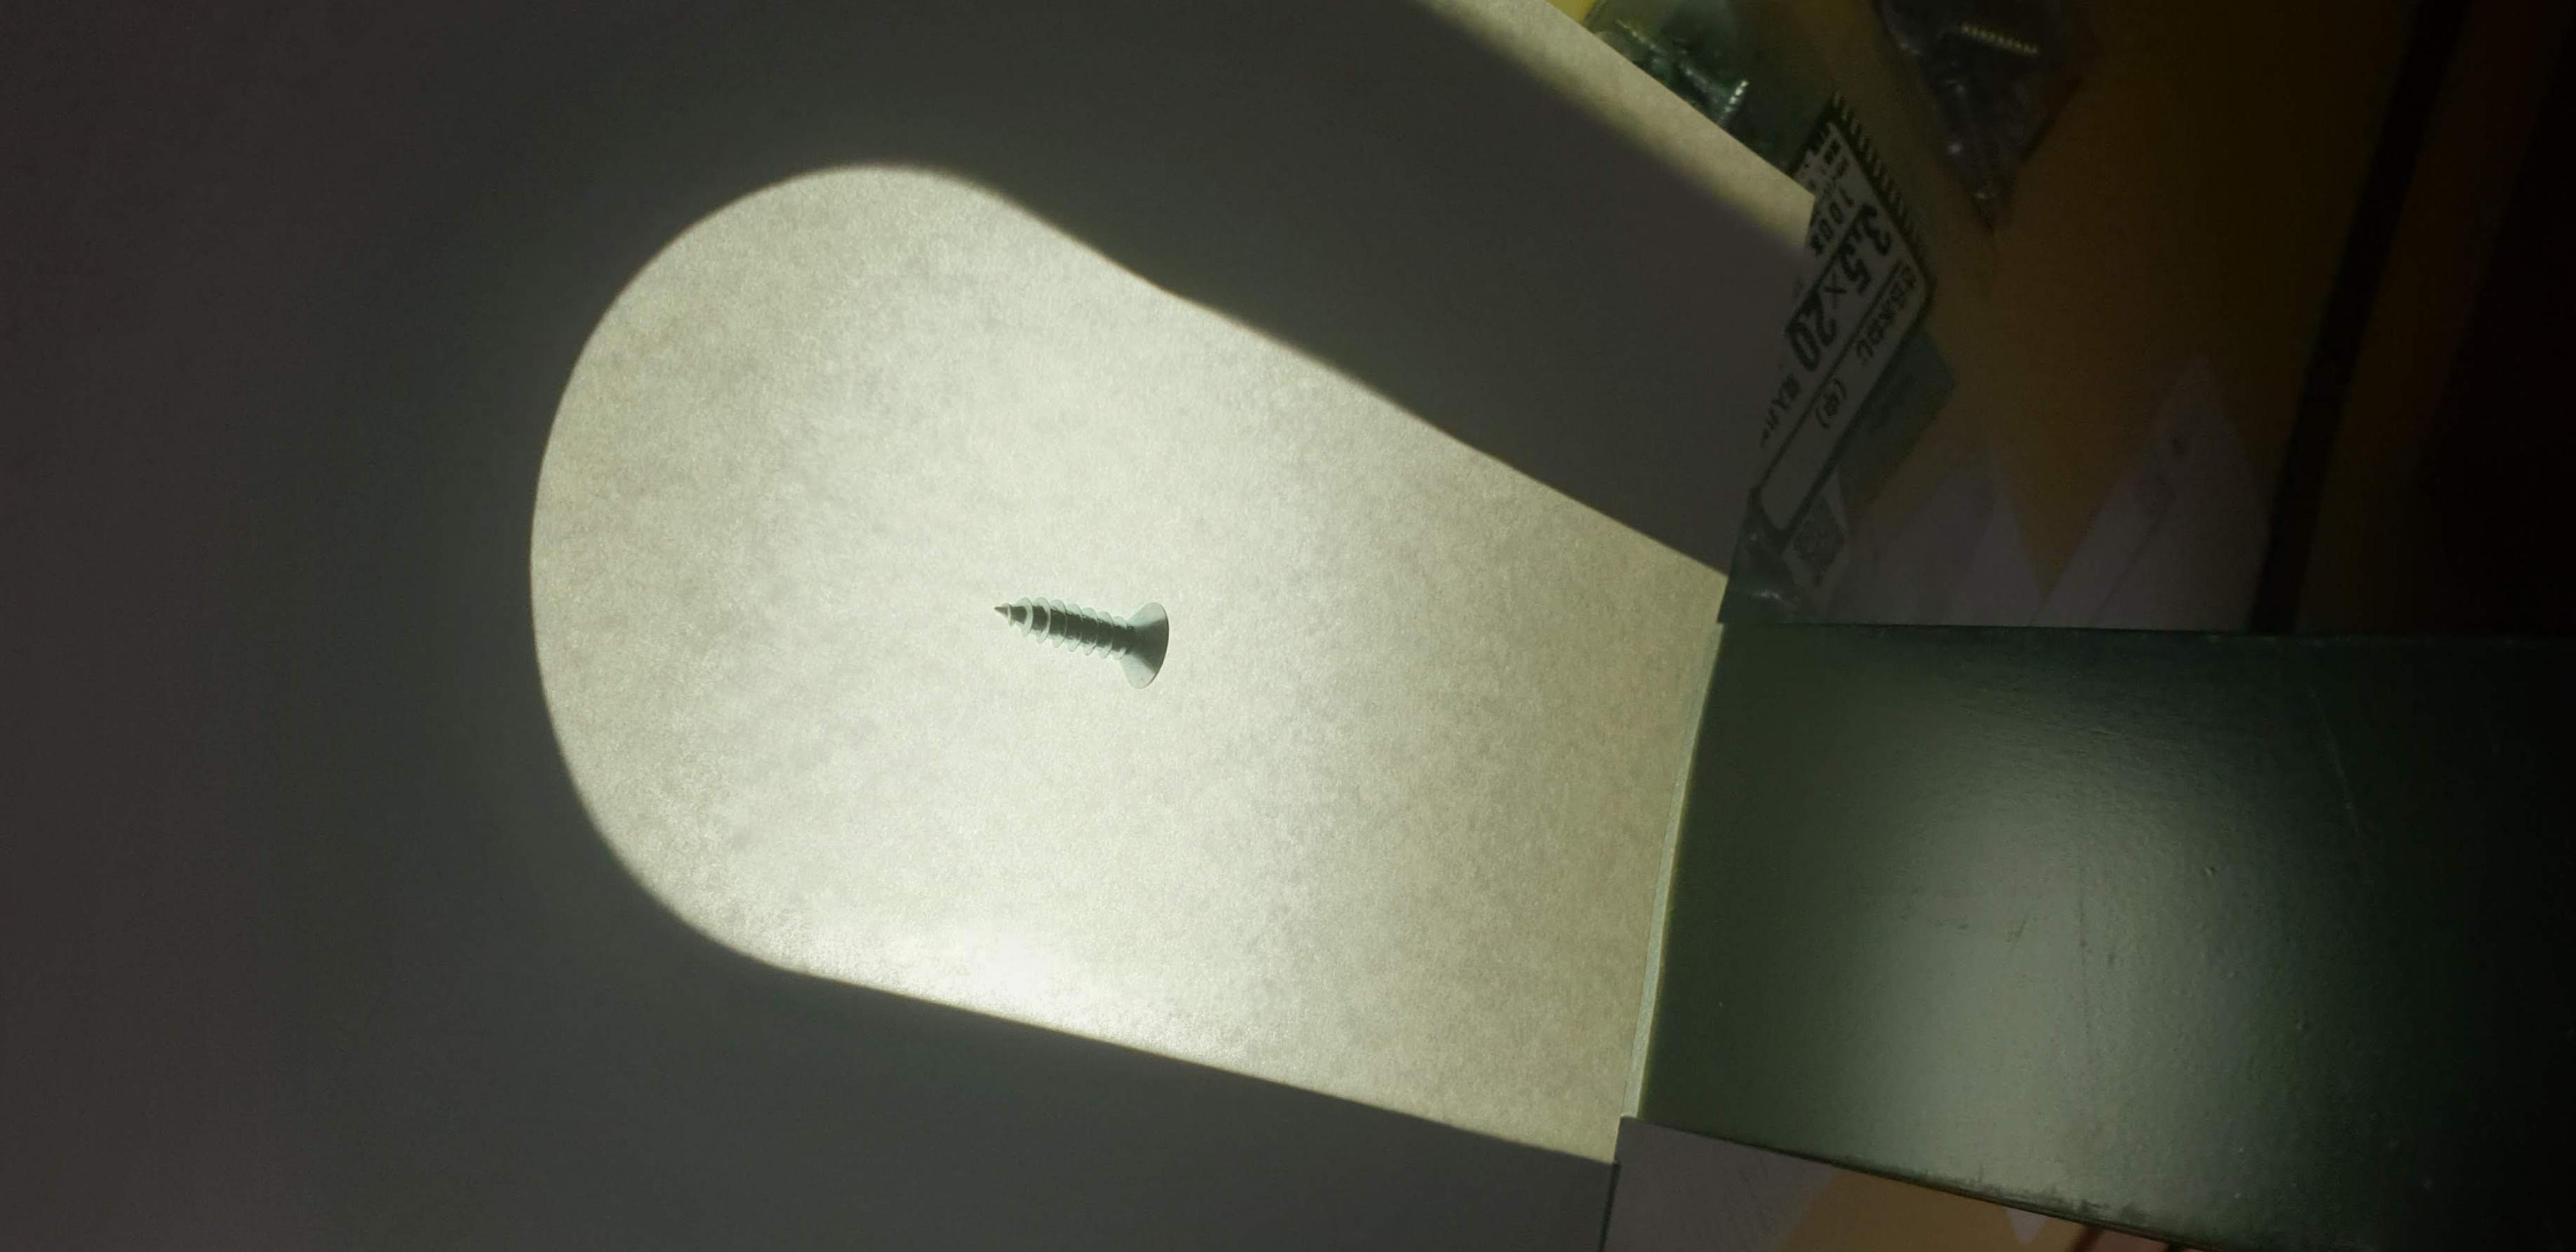S003: (977, 557, 1196, 707)
